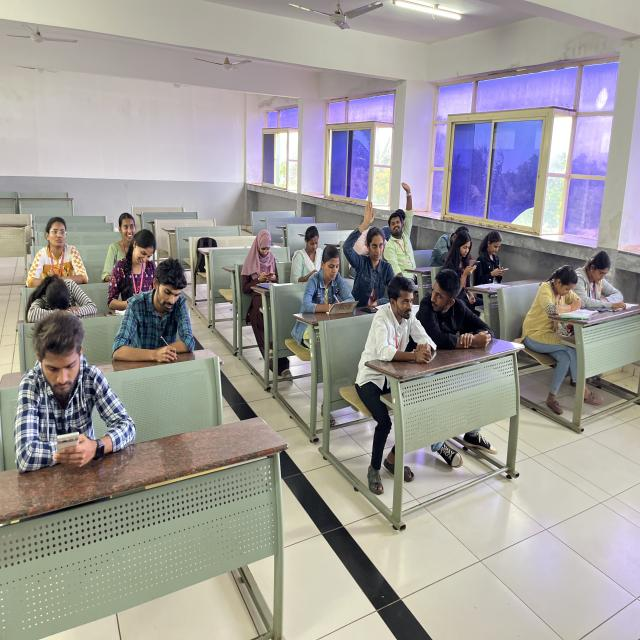Hand Rising: (341, 195, 395, 278), (380, 172, 424, 272)
Reading: (514, 261, 595, 341)
Sleeping: (17, 262, 102, 322)
Using Phone: (14, 315, 143, 470), (242, 225, 284, 289), (476, 224, 512, 286), (443, 229, 481, 287)
Writing: (111, 254, 208, 364), (299, 246, 359, 313)
